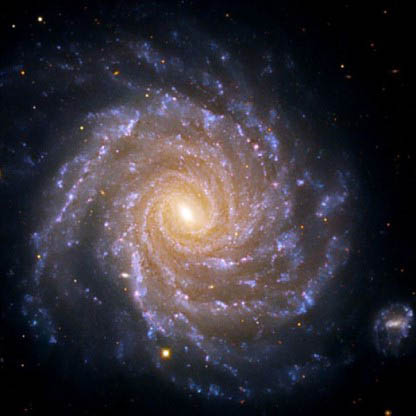NGC 1232: (16, 23, 409, 394)
